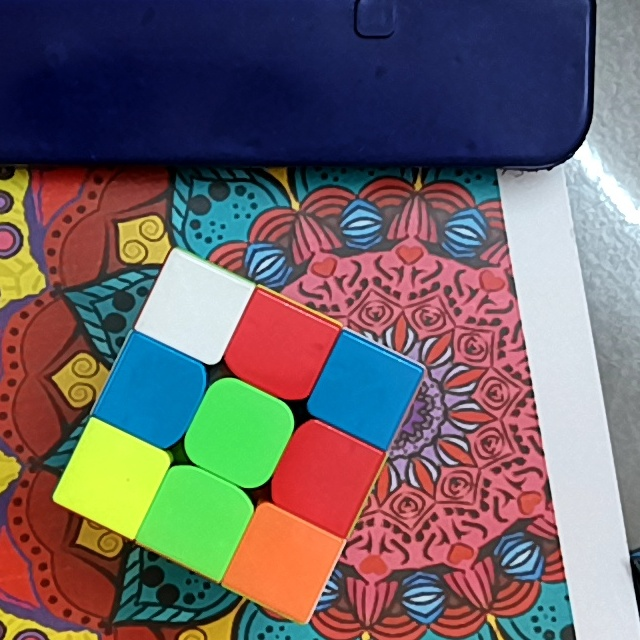tile: (204, 404, 271, 467), (162, 488, 229, 551), (291, 444, 355, 509), (122, 362, 186, 427), (250, 529, 315, 593), (78, 445, 145, 506), (329, 361, 397, 421), (246, 315, 308, 380), (163, 279, 224, 339)
